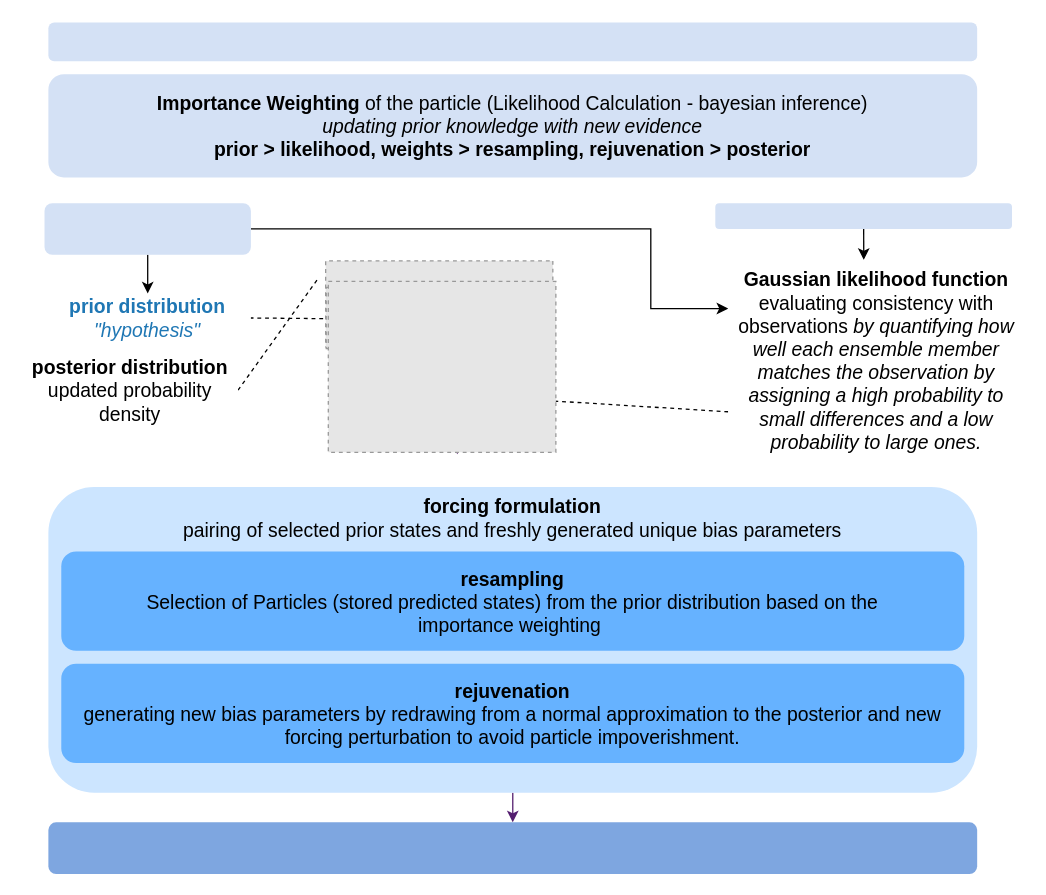
Image size: 1046x895. Some labels were removed from this diagram. Grey dashed boxes stand in for pictures. Each missing label, with the box of its shape:
data assimilation based on particle filter: (48, 22, 977, 61)
observation: (715, 203, 1011, 228)
snow model ensemb le (prior): (44, 203, 250, 254)
updated ensemble improved estimate of the system state: (48, 822, 977, 873)
